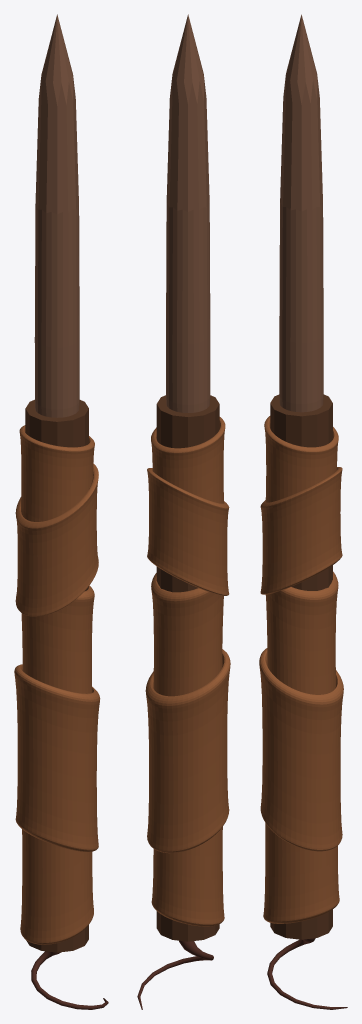
Rendered from Wand 309.glb.
The picture shows the model from 3 angles, left to right: view 1: azimuth 30°, elevation 25°; view 2: azimuth 210°, elevation 25°; view 3: azimuth 330°, elevation 25°; orthographic projection.
Visible parts, largest first — view 1: GeneratedWand; view 2: GeneratedWand; view 3: GeneratedWand.
Boxes of the visible parts, bbox=[...] form: GeneratedWand: bbox=[14, 14, 108, 1009]; GeneratedWand: bbox=[137, 14, 230, 1009]; GeneratedWand: bbox=[259, 14, 347, 1009].
Bounding box in the file's own units: 0.0462 × 0.5228 × 0.0408.
